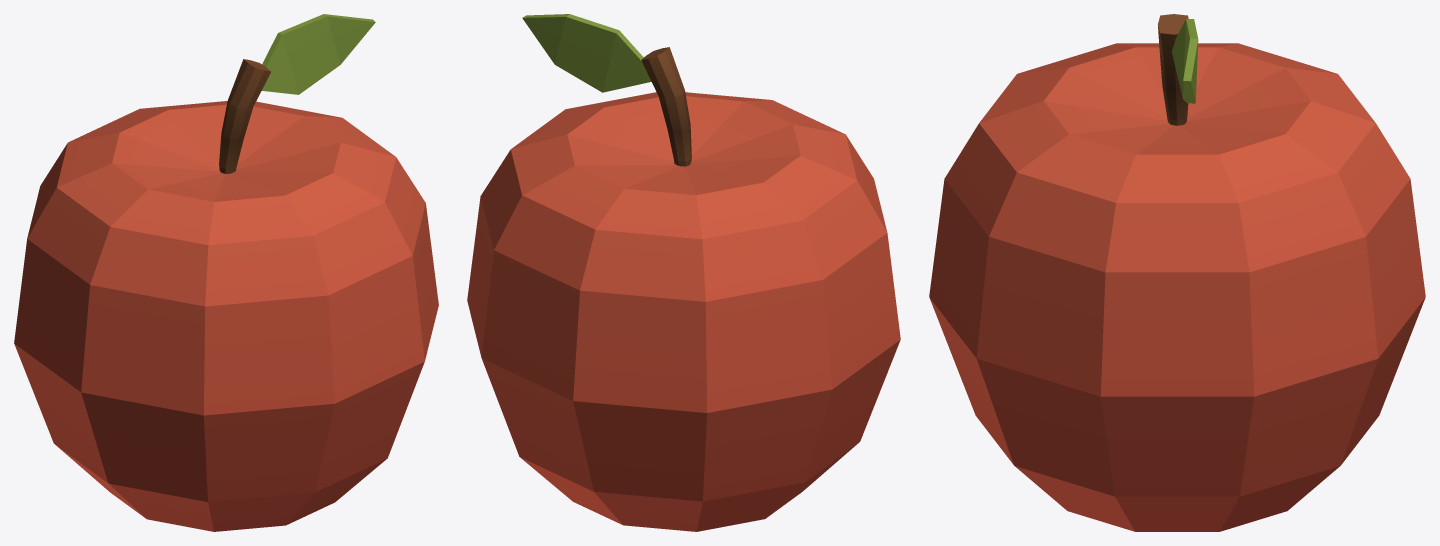
File: apple_1a.fbx
3 renders of one model, left to right at view 1: azimuth 30°, elevation 25°; view 2: azimuth 150°, elevation 25°; view 3: azimuth 270°, elevation 25°, orthographic. The views are drawn at different scales.
Visible parts, largest first — view 1: apple_1a; view 2: apple_1a; view 3: apple_1a.
Part boxes in pixels (x1,y1,x2,y2): apple_1a: (14,14,438,531); apple_1a: (467,14,900,531); apple_1a: (929,14,1425,531).
Size of the model in its own units: 0.1112 by 0.1327 by 0.1169.
